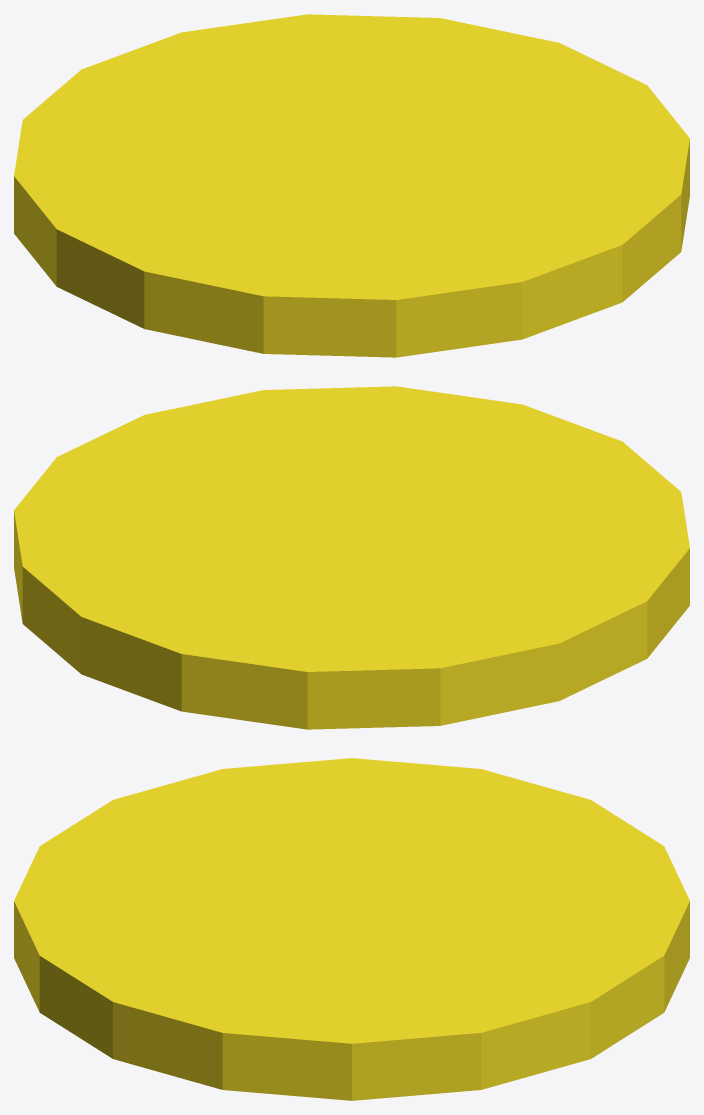
File: Area.obj
3 views of the same model, one above another, from view 1: azimuth 30°, elevation 25°; view 2: azimuth 150°, elevation 25°; view 3: azimuth 270°, elevation 25° (orthographic).
Visible parts, largest first — view 1: 円柱; view 2: 円柱; view 3: 円柱.
Boxes of the visible parts, <box> form: 円柱: <box>14,14,689,357</box>; 円柱: <box>14,386,689,729</box>; 円柱: <box>14,758,689,1100</box>.
Size of the model in its own units: 2 by 0.1864 by 2.
Materials: 1 (1 with a texture image).
